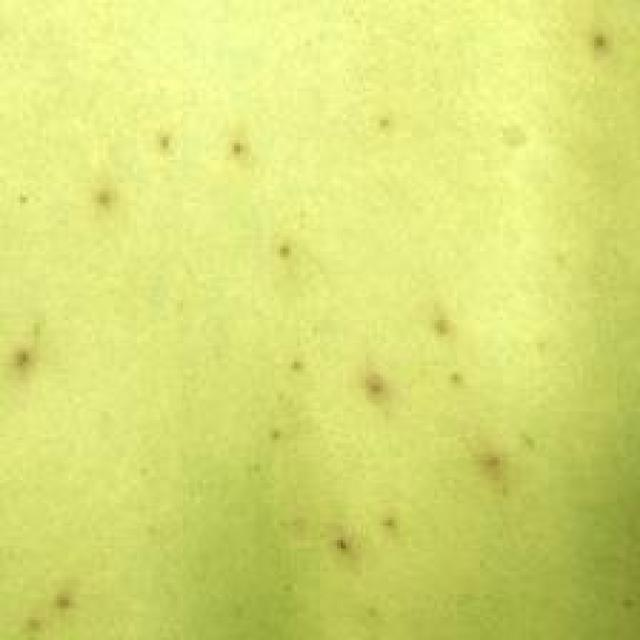others: (34, 48, 619, 640)
